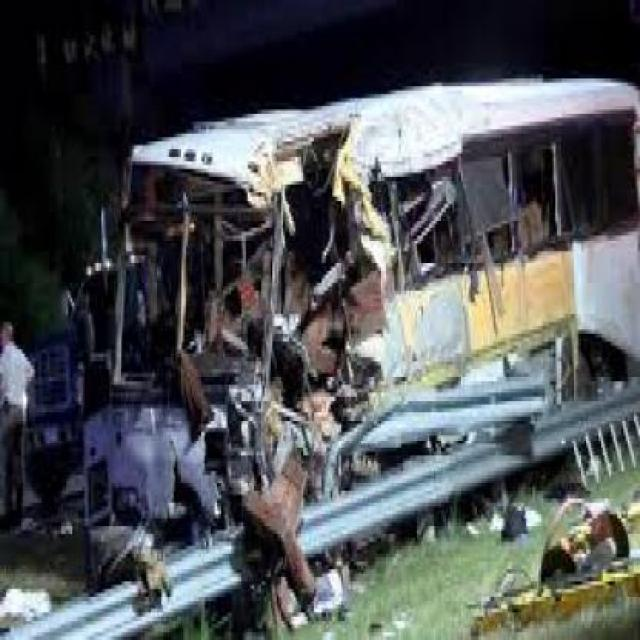accident: (81, 98, 640, 586)
